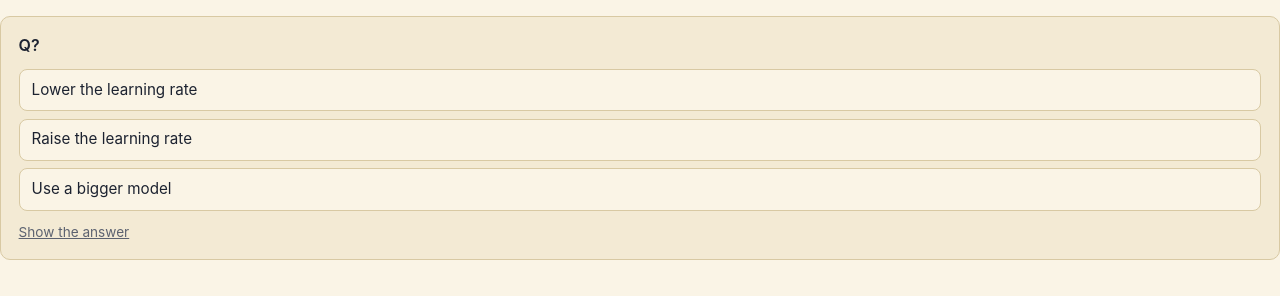
Test: Choice › "Show the answer" opens the worked answer without counting as correct
Click the button "Show the answer" at x=74, y=232, box [19,222,129,242]
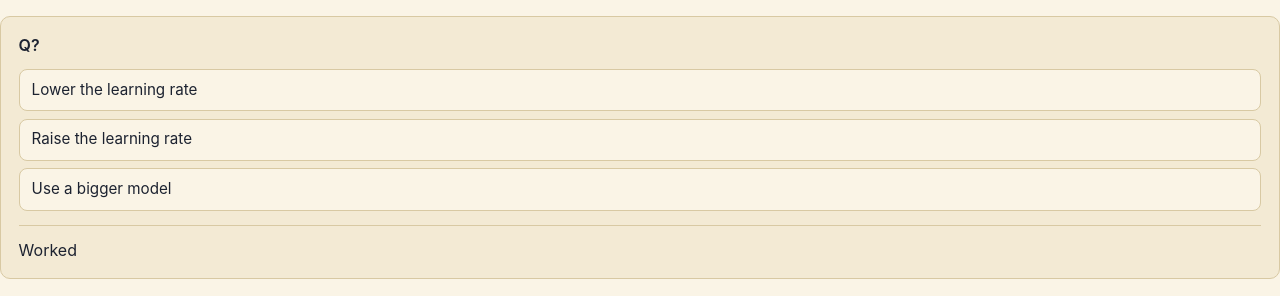
Expected: the text "Worked" is shown, [19,225,1261,262]
